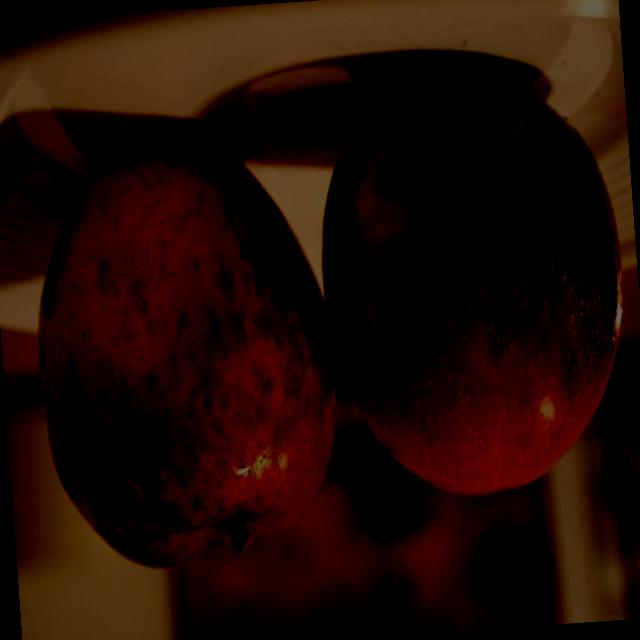Apple: (23, 128, 351, 576), (311, 89, 638, 506)
